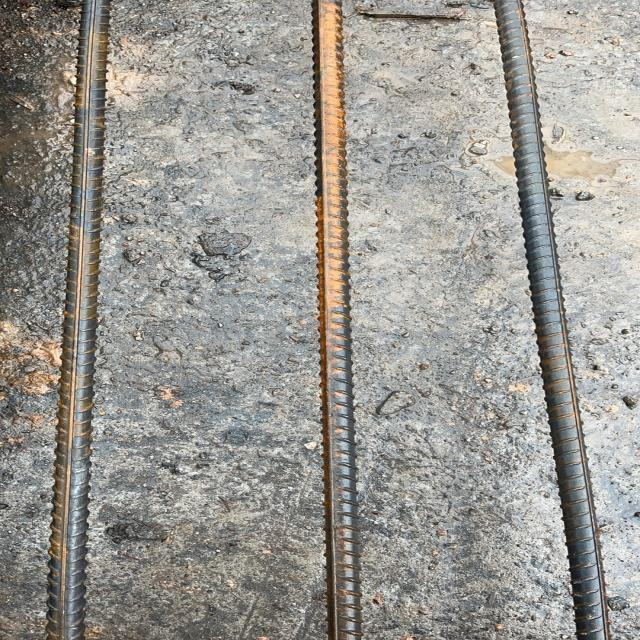ribbed bar: (491, 0, 613, 639), (42, 0, 112, 639), (308, 0, 362, 639)
